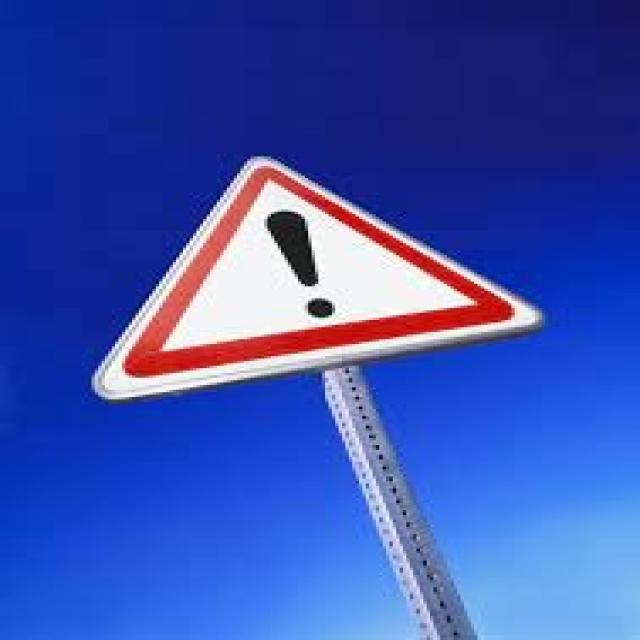warning: (79, 144, 571, 418)
